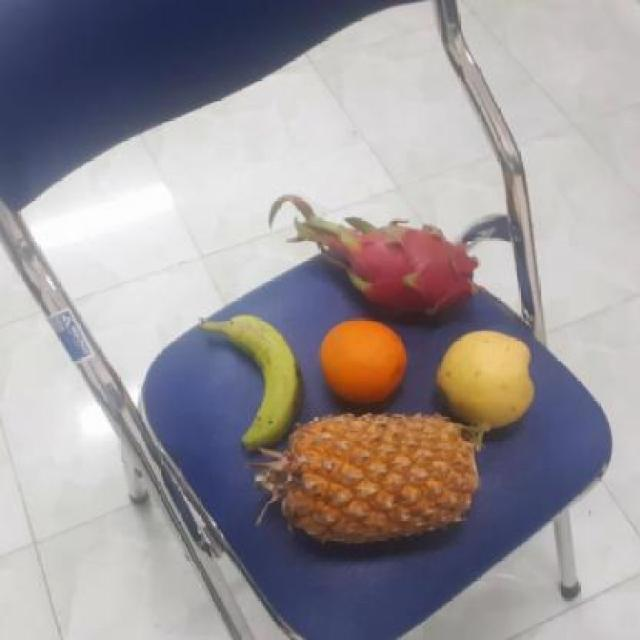banana: (208, 314, 302, 448)
dragon fruit: (328, 223, 477, 322)
oren: (318, 316, 407, 402)
pear: (434, 328, 538, 429)
pineapple: (270, 408, 476, 548)
